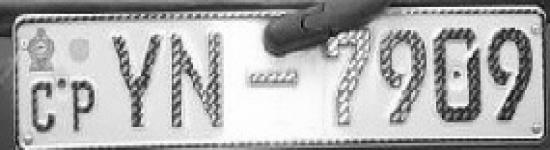-: (242, 59, 306, 98)
0: (430, 19, 486, 131)
7: (319, 23, 375, 134)
9: (373, 22, 430, 135), (486, 16, 536, 134), (67, 70, 100, 139)
C: (28, 77, 58, 135)
N: (168, 27, 229, 133)
Y: (102, 28, 166, 136)
